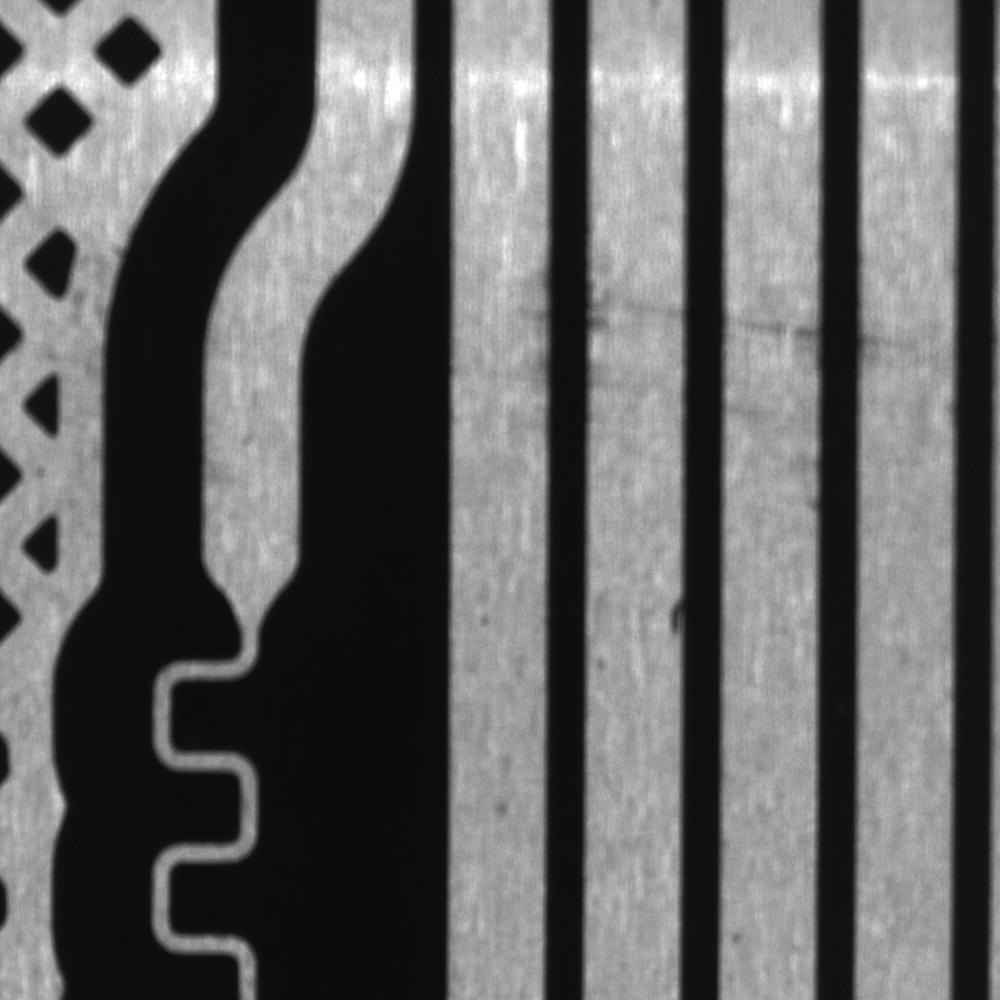Etching: (657, 571, 689, 656)
Pinhole: (481, 778, 523, 829), (589, 638, 620, 680), (467, 597, 502, 634), (720, 918, 753, 951)
Scar: (587, 258, 683, 350), (726, 288, 818, 373), (856, 308, 931, 377)
